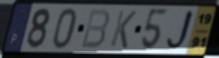0: (51, 7, 79, 51)
5: (139, 7, 170, 53)
8: (26, 7, 53, 50)
B: (79, 9, 111, 51)
J: (164, 8, 197, 53)
K: (108, 9, 138, 50)
